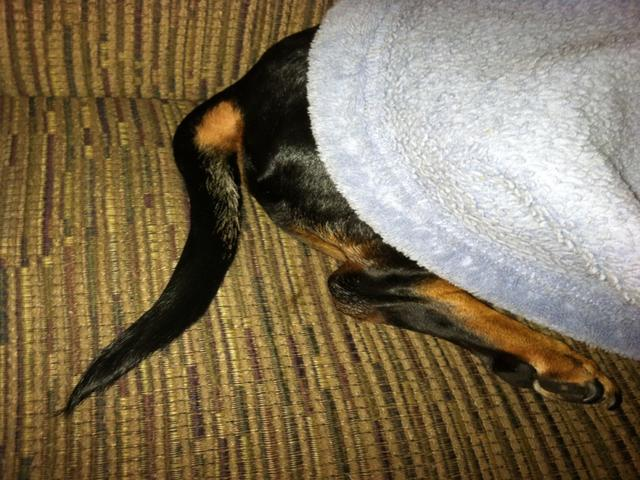dog: (108, 18, 640, 415)
